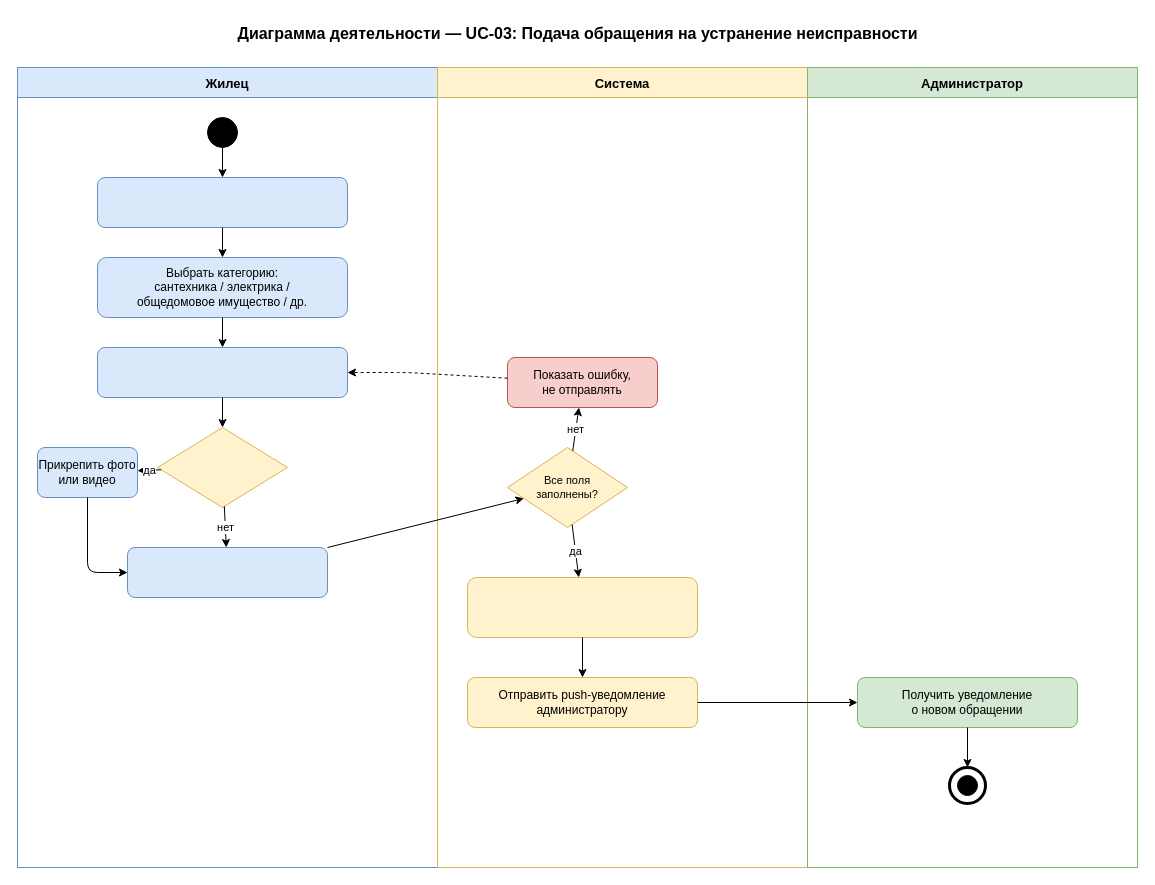
Image size: 1155x885. Some labels were removed from this diagram. Each missing label, with the box of its shape:
Ввести описание неисправности: (96, 346, 348, 398)
Зафиксировать дату/время, присвоить №, статус «Принято»: (466, 576, 698, 638)
Нужны фото/видео?: (156, 426, 288, 508)
Открыть раздел «Обращения» → «Подать обращение»: (96, 176, 348, 228)
Подтвердить отправку: (126, 546, 328, 598)
